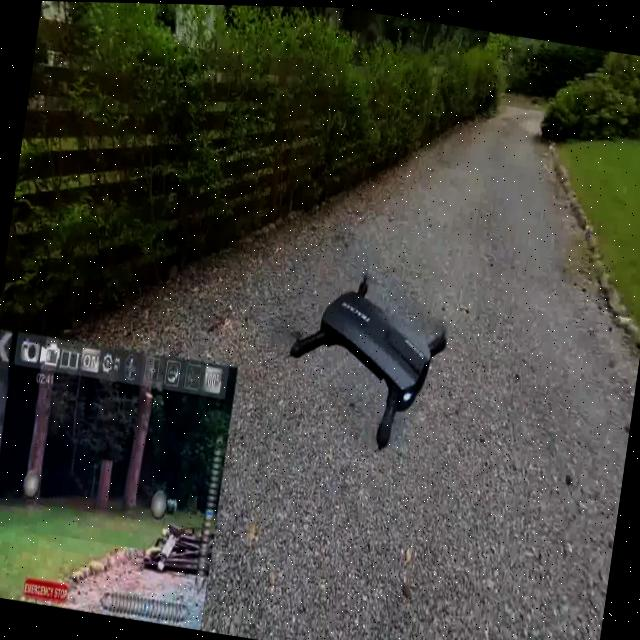drone: (262, 223, 484, 476)
